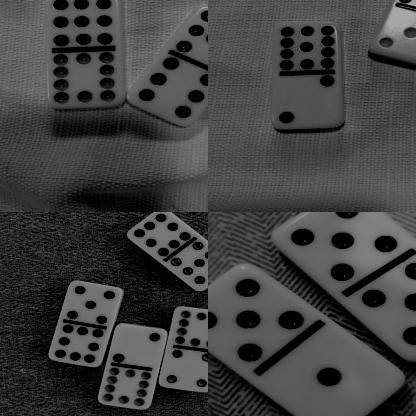pip-1: (263, 331, 404, 416)
pip-10: (48, 48, 124, 108), (101, 365, 151, 411), (173, 304, 208, 348)
pip-11: (272, 22, 339, 72)
pip-2: (272, 71, 345, 129), (111, 323, 168, 365)
pip-3: (367, 12, 416, 66)
pip-4: (157, 348, 208, 392)
pip-5: (208, 263, 302, 368), (271, 212, 396, 285), (360, 260, 416, 361), (66, 280, 124, 326)
pip-6: (126, 55, 208, 126)
pip-7: (175, 6, 208, 68), (169, 240, 208, 291)
pip-8: (125, 212, 190, 257), (49, 324, 104, 366)
pip-9: (44, 0, 121, 47)
